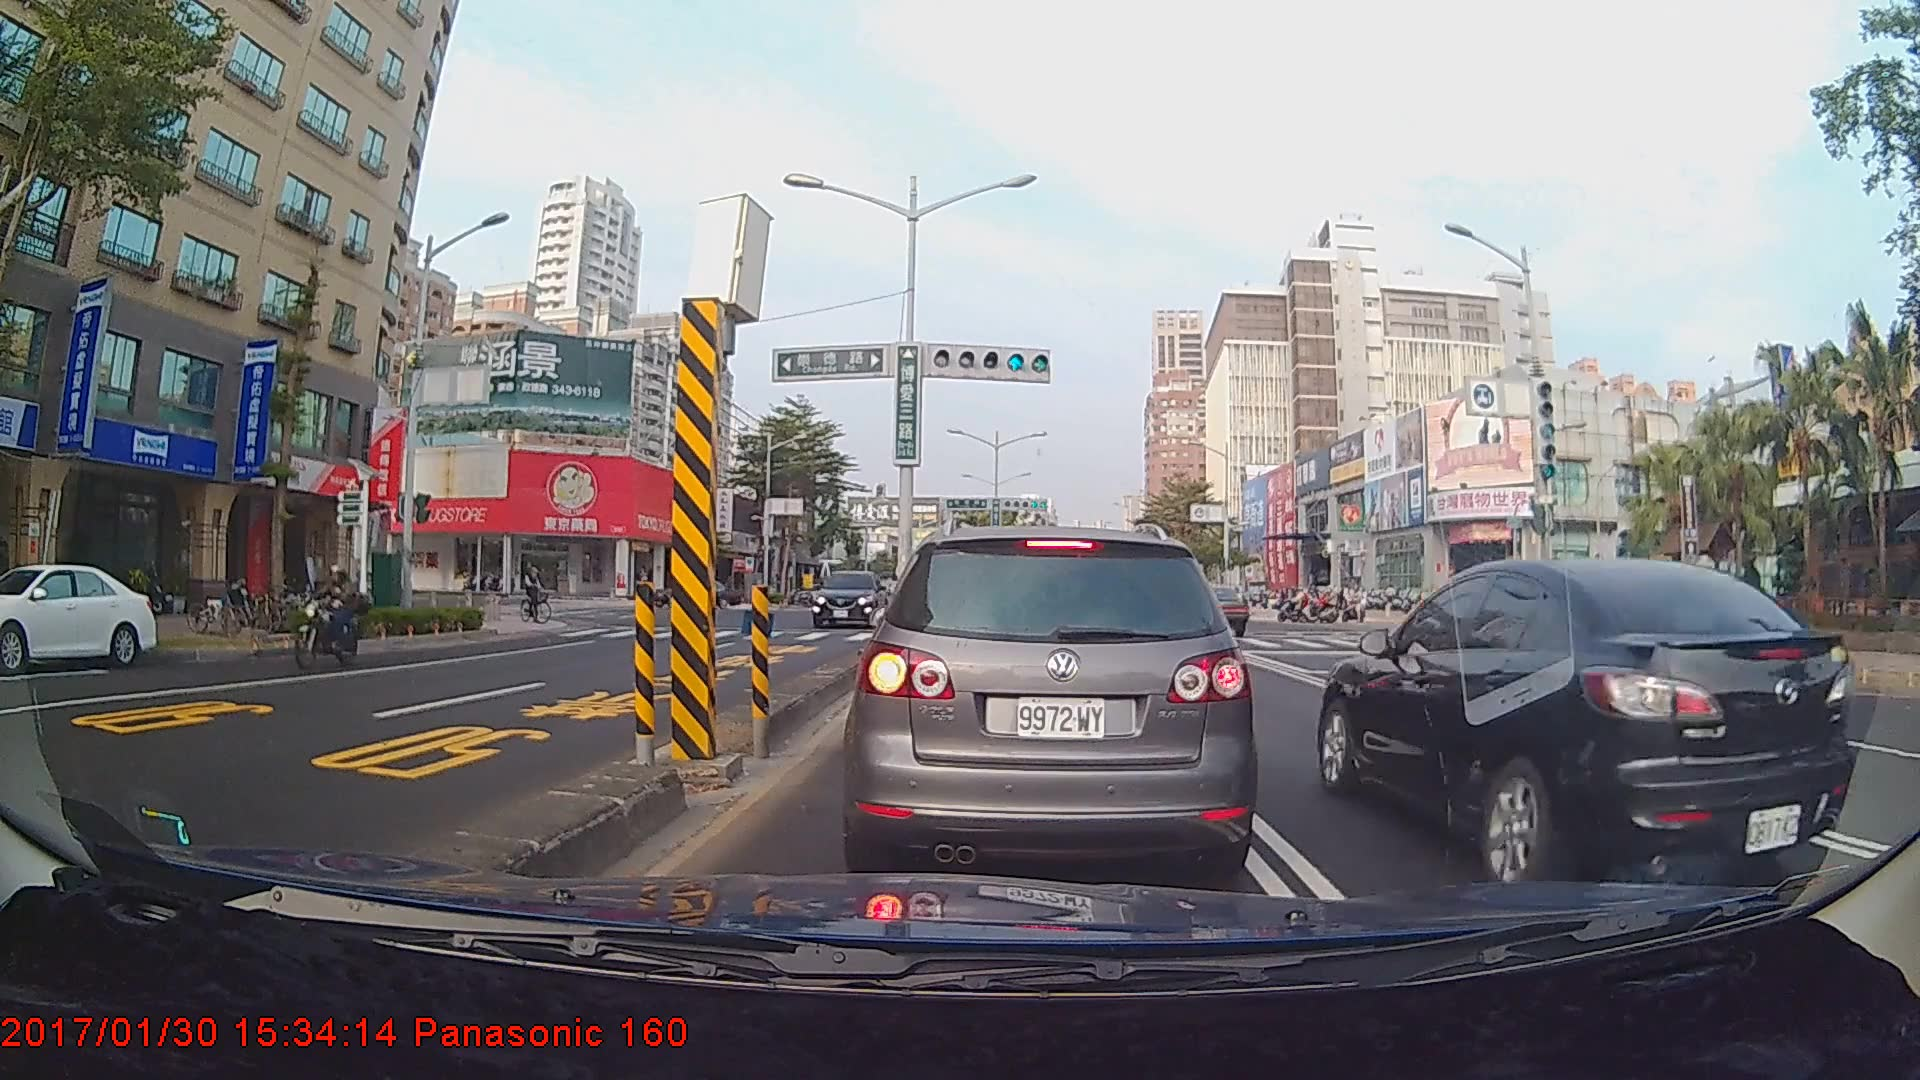pedestrian: (1742, 581, 1766, 645)
rider: (289, 557, 368, 673), (518, 559, 561, 629)
vehicle: (1313, 553, 1867, 886), (855, 523, 1249, 878), (0, 561, 161, 671), (809, 568, 889, 628), (1172, 584, 1249, 635), (646, 577, 742, 611)
